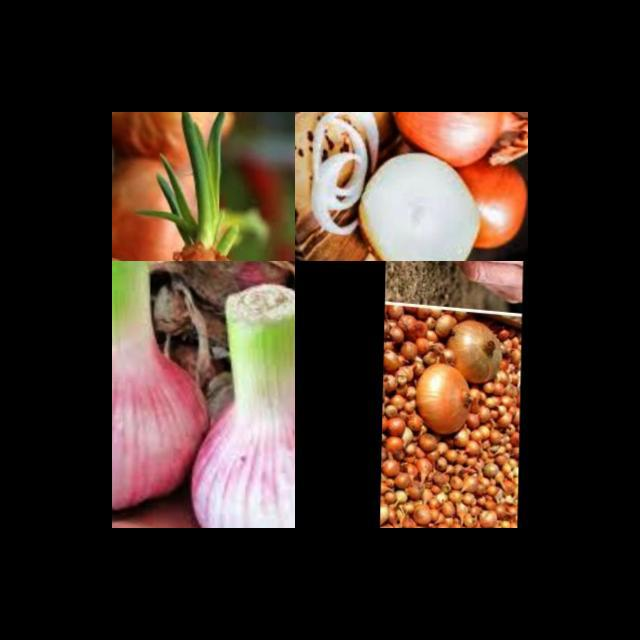garlic: (180, 281, 295, 528), (112, 261, 214, 522)
onion: (380, 310, 522, 528), (356, 147, 483, 261), (112, 128, 214, 261), (303, 112, 389, 239), (448, 145, 528, 253), (388, 112, 523, 170), (414, 354, 479, 436), (112, 112, 219, 157), (448, 316, 514, 381)
